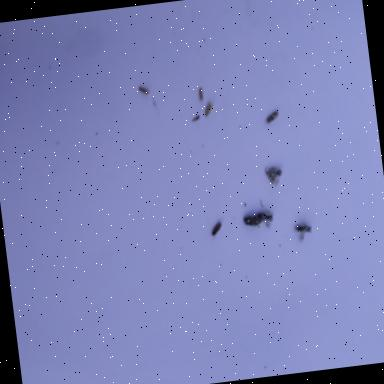pbw: (202, 99, 216, 117), (196, 86, 205, 102)
